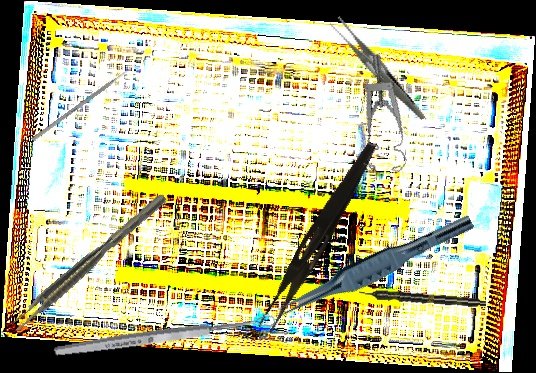Dressing Forceps: (256, 135, 381, 338), (328, 1, 426, 138)
Handpiece: (358, 286, 487, 310)
Pusher: (31, 62, 138, 142)
Speculum: (340, 52, 435, 179)
Surgical Spoon: (52, 312, 277, 360)
Tissue Forceps: (274, 203, 476, 329), (7, 192, 172, 335)
